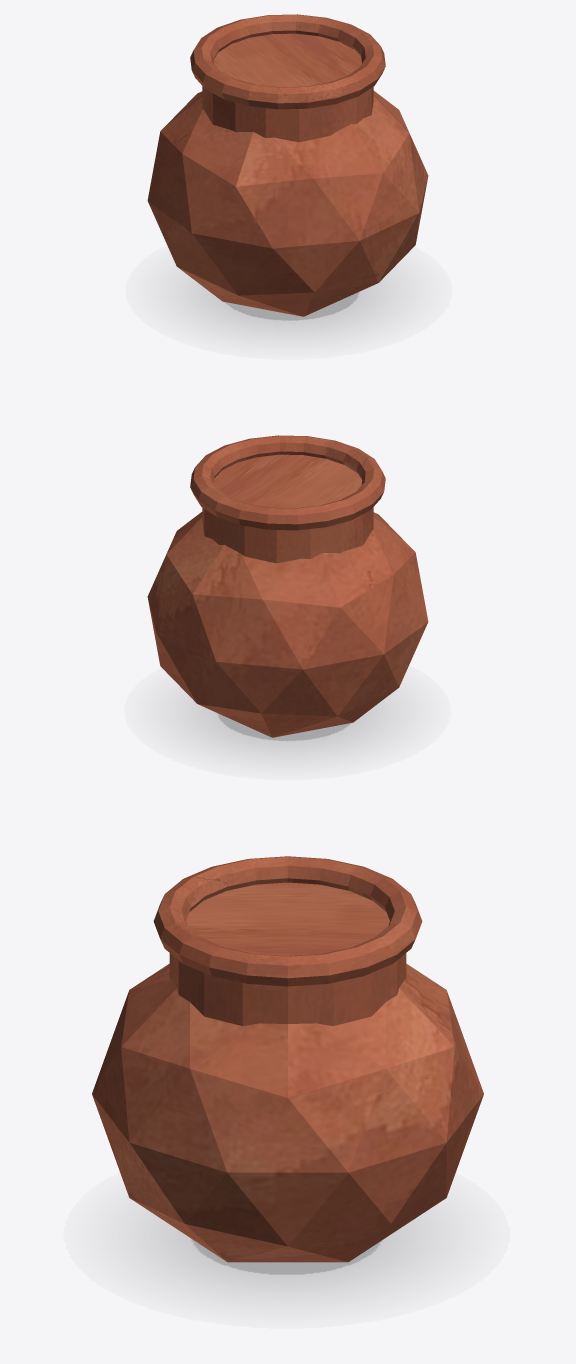
The model's file is pot-small.glb.
3 renders of one model, top to bottom at view 1: azimuth 30°, elevation 25°; view 2: azimuth 150°, elevation 25°; view 3: azimuth 270°, elevation 25°, orthographic. The views are drawn at different scales.
Parts seen in each view (by area): view 1: belly, neck, rim, ContactShadow; view 2: belly, neck, rim, ContactShadow; view 3: belly, neck, rim, ContactShadow.
Part boxes in pixels (<box>): belly: <box>147,91,428,316</box>; neck: <box>202,33,373,142</box>; rim: <box>190,14,385,109</box>; ContactShadow: <box>201,285,376,327</box>; belly: <box>147,512,428,737</box>; neck: <box>202,454,373,563</box>; rim: <box>190,435,385,530</box>; ContactShadow: <box>200,706,375,747</box>; belly: <box>92,963,483,1262</box>; neck: <box>169,882,406,1026</box>; rim: <box>153,856,422,986</box>; ContactShadow: <box>168,1226,405,1284</box>.
Size of the model in its own units: 0.589 by 0.4075 by 0.589.
Materials: 3 (2 with a texture image).
